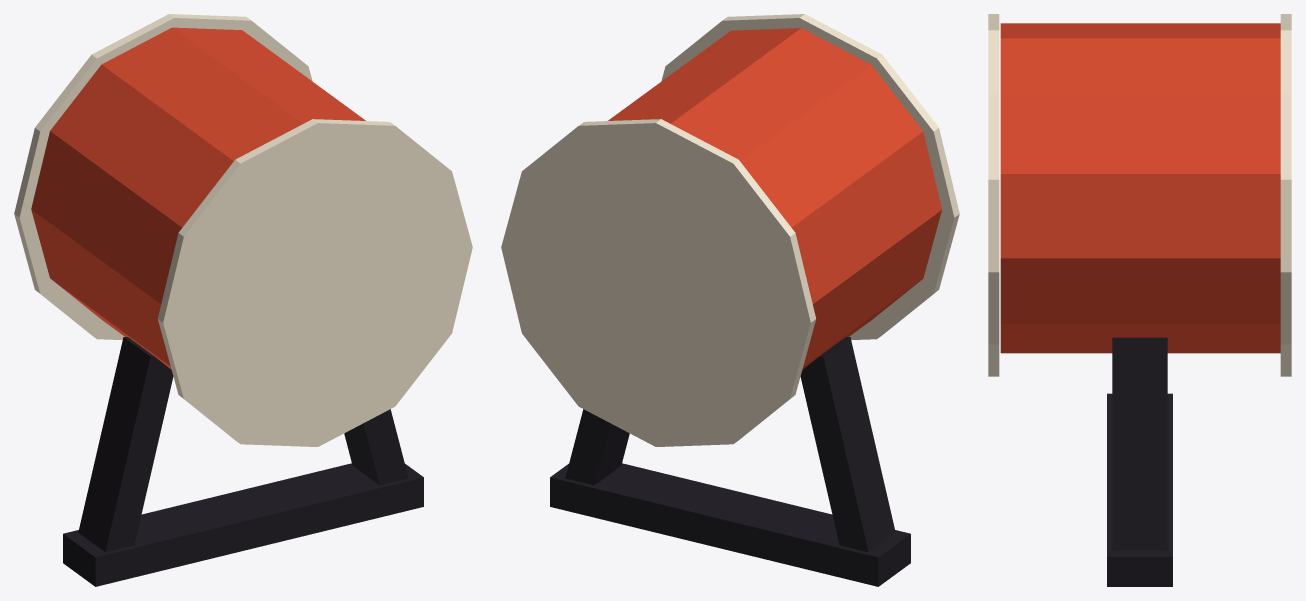
File: prop_taiko.glb
3 renders of one model, left to right at view 1: azimuth 30°, elevation 25°; view 2: azimuth 150°, elevation 25°; view 3: azimuth 270°, elevation 25°, orthographic.
Parts seen in each view (by area): view 1: PROP-TAIKO; view 2: PROP-TAIKO; view 3: PROP-TAIKO.
Boxes of the visible parts, x1,y1,x2,y2 form: PROP-TAIKO: (14,14,472,586); PROP-TAIKO: (501,14,959,586); PROP-TAIKO: (988,14,1291,586).
Bounding box in the file's own units: 0.7 × 0.95 × 0.55.
